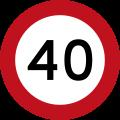Speed limit -40-: (24, 34, 96, 84)
